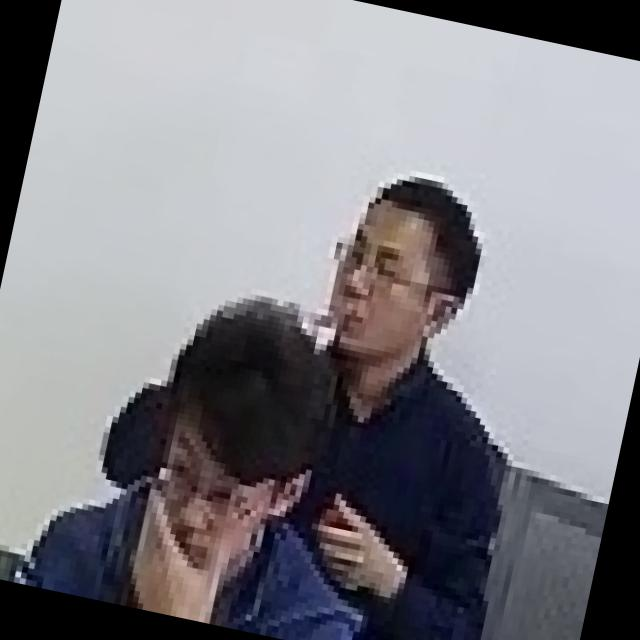drink: (237, 153, 581, 640)
trance: (130, 286, 371, 640)
